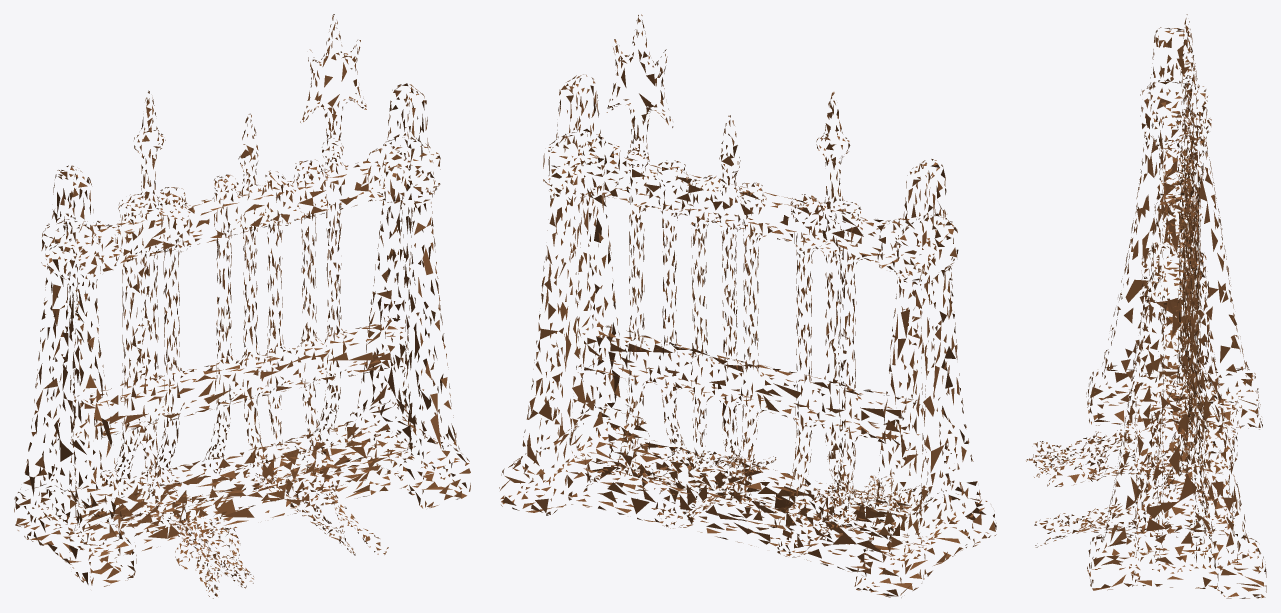
File: weapon_rack.obj
The picture shows the model from 3 angles, left to right: view 1: azimuth 30°, elevation 25°; view 2: azimuth 150°, elevation 25°; view 3: azimuth 270°, elevation 25°; orthographic projection. The views are drawn at different scales.
Size of the model in its own units: 1.11 by 1.3 by 0.5806.
